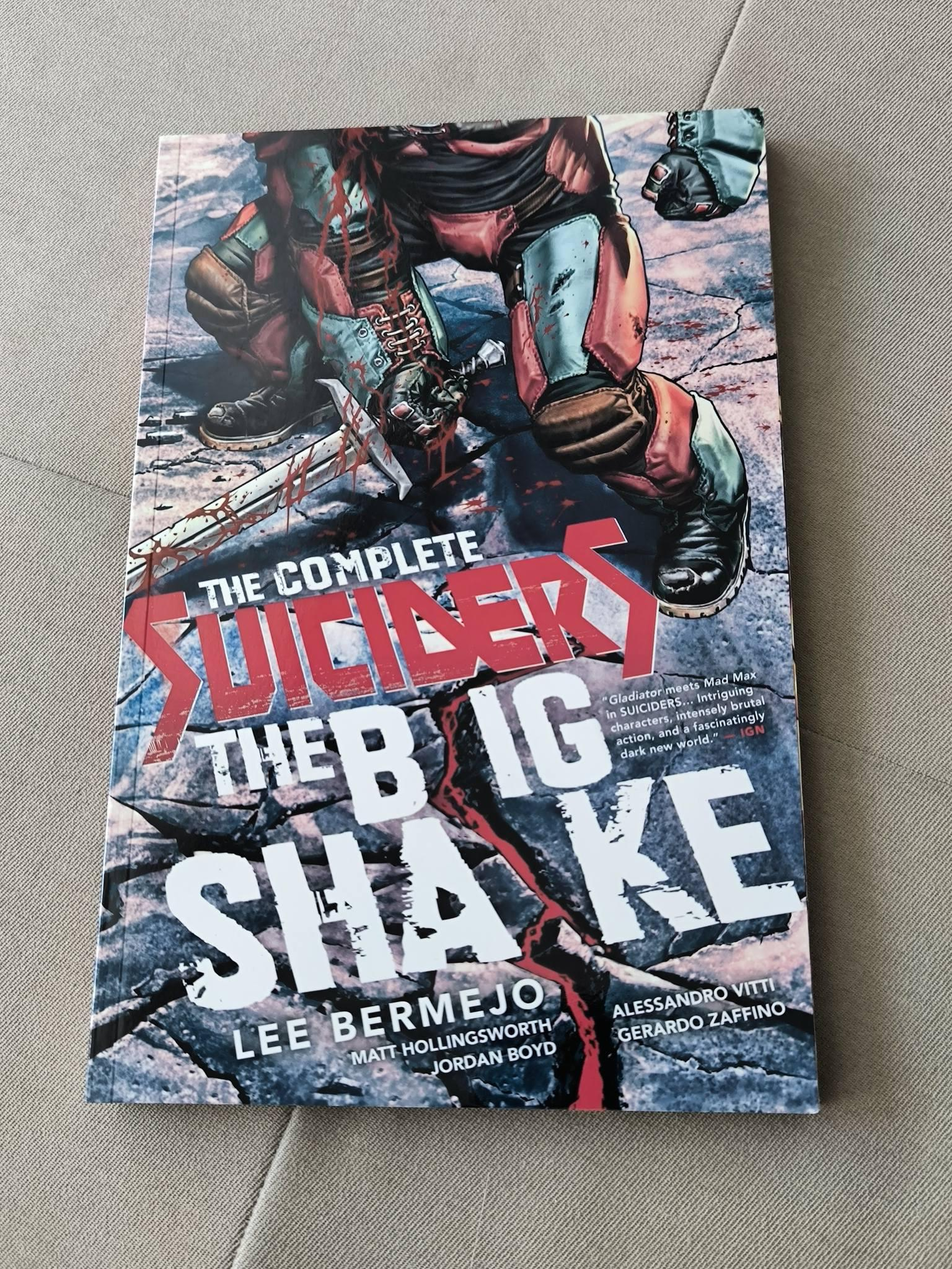comic: (87, 100, 831, 1111)
